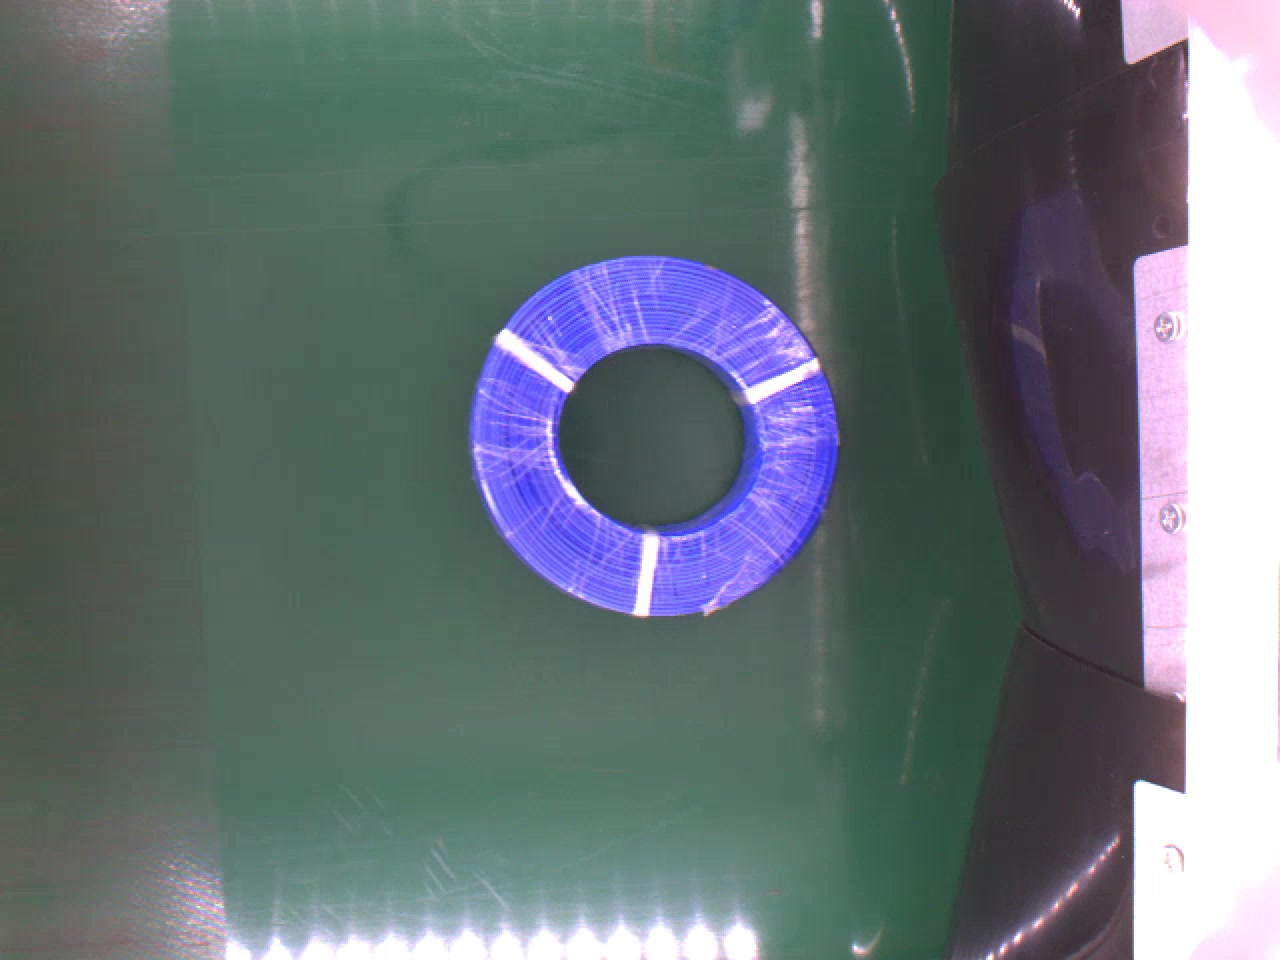blue: (459, 258, 845, 626)
